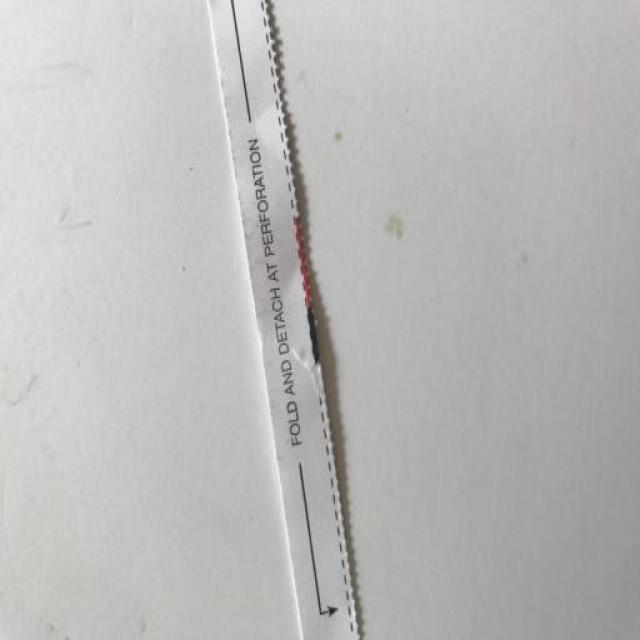paper: (187, 2, 446, 640)
